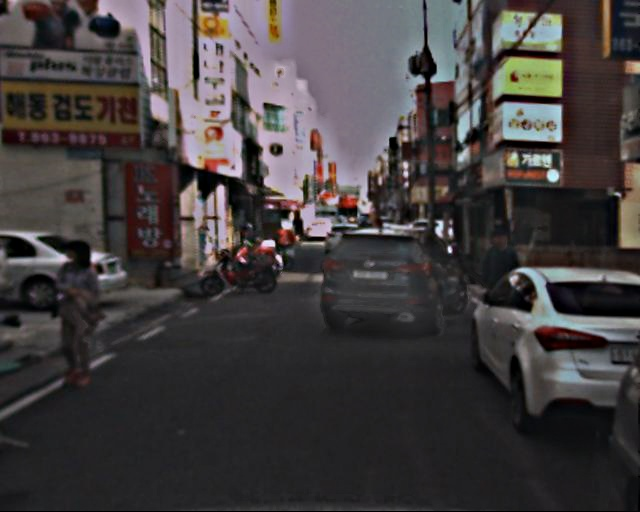person: (49, 231, 117, 388), (477, 227, 529, 340)
